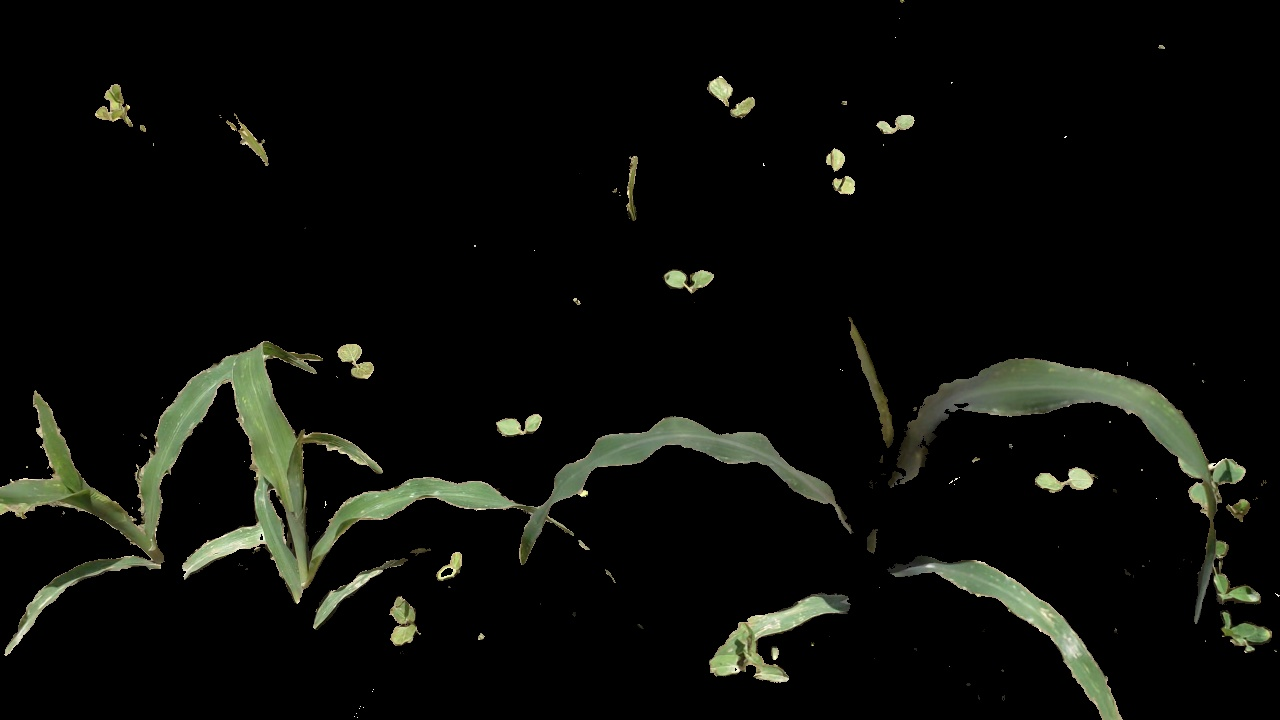crop: (560, 321, 1194, 713), (181, 359, 603, 605), (1, 339, 245, 622)
weed: (329, 335, 391, 396), (1194, 448, 1246, 512), (95, 80, 145, 144), (700, 68, 762, 116), (874, 99, 927, 153), (1032, 462, 1099, 503), (1221, 613, 1279, 650), (385, 596, 423, 651), (492, 408, 554, 440), (823, 136, 856, 195), (662, 257, 714, 291), (1218, 563, 1255, 609), (433, 548, 464, 585)
